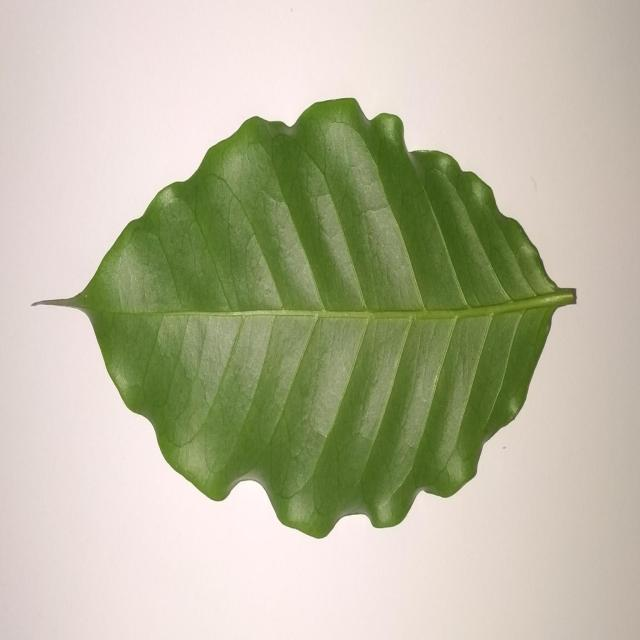Sanas: (33, 99, 578, 541)
